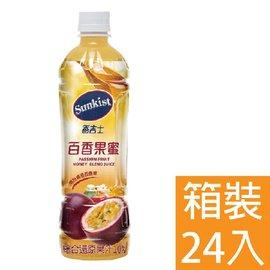bottle: (42, 0, 120, 128)
